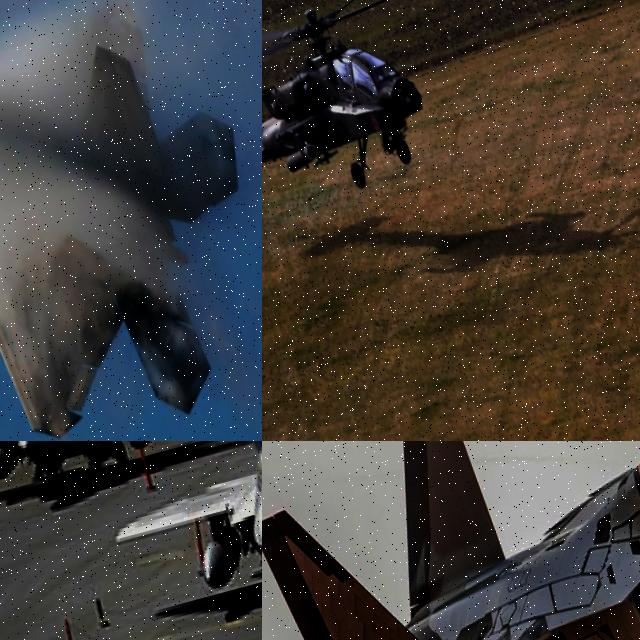Apache: (262, 0, 503, 235)
F22: (0, 0, 262, 441), (262, 441, 640, 640), (76, 441, 262, 640), (0, 441, 228, 526)
